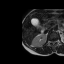CCS_normal: (52, 39, 54, 46)
LFS_normal: (56, 38, 57, 44)
LLS_normal: (54, 39, 56, 44)
RFS_normal: (49, 39, 51, 44)
RLS_stenosis: (51, 39, 52, 44)
